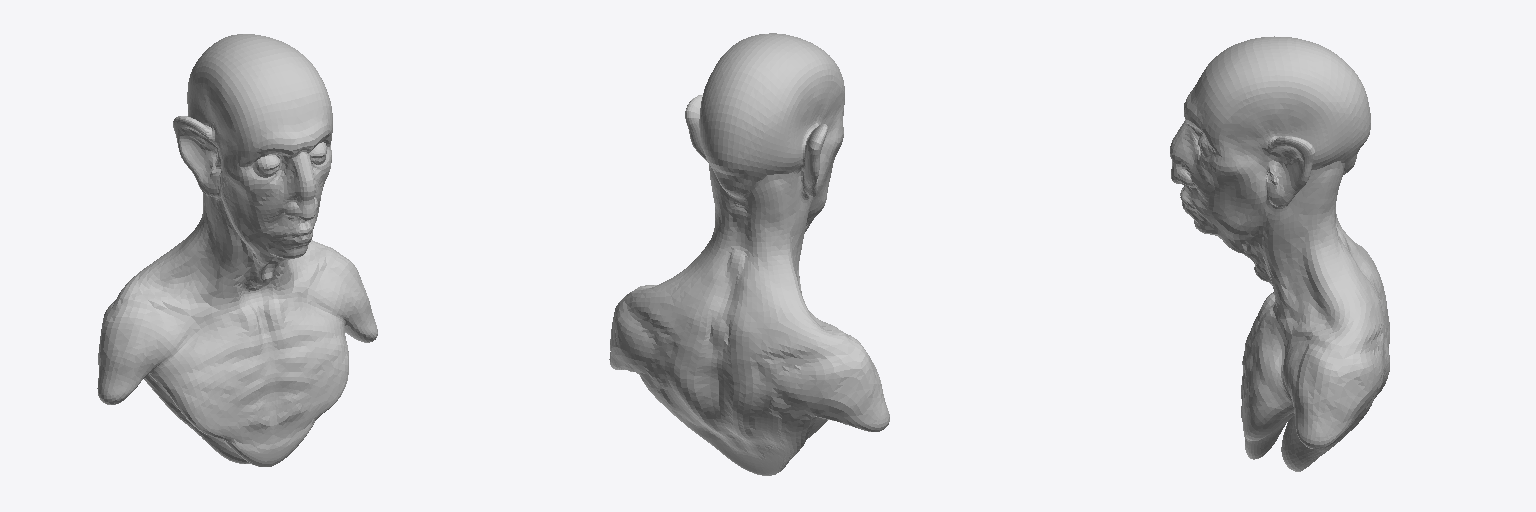
File: OldMan.OBJ
The picture shows the model from 3 angles: view 1: azimuth 30°, elevation 25°; view 2: azimuth 150°, elevation 25°; view 3: azimuth 270°, elevation 25°; orthographic projection.
Visible parts, largest first — view 1: Group13881; view 2: Group13881; view 3: Group13881.
Boxes of the visible parts, x1=… form: Group13881: x1=97, y1=34, x2=377, y2=466; Group13881: x1=609, y1=33, x2=889, y2=475; Group13881: x1=1170, y1=36, x2=1389, y2=471.
Size of the model in its own units: 3.72 by 5.51 by 2.59.